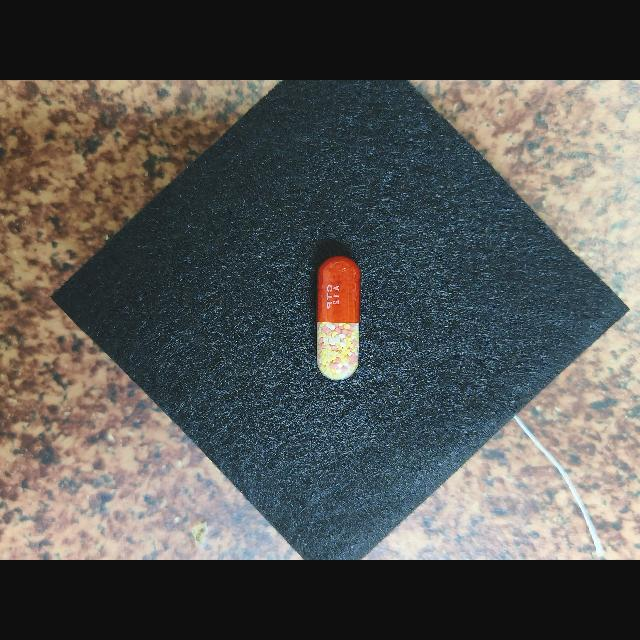Intact Capsule: (317, 256, 360, 380)
